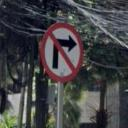NoVirarDireita: (37, 22, 87, 84)
